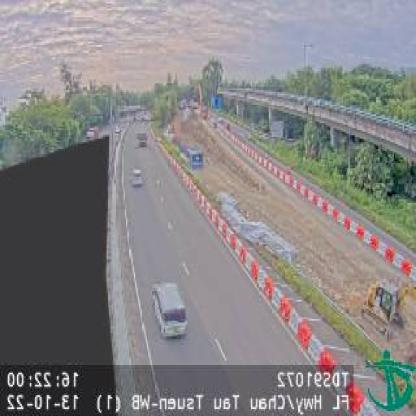Car: (150, 281, 188, 341), (130, 167, 142, 187)
